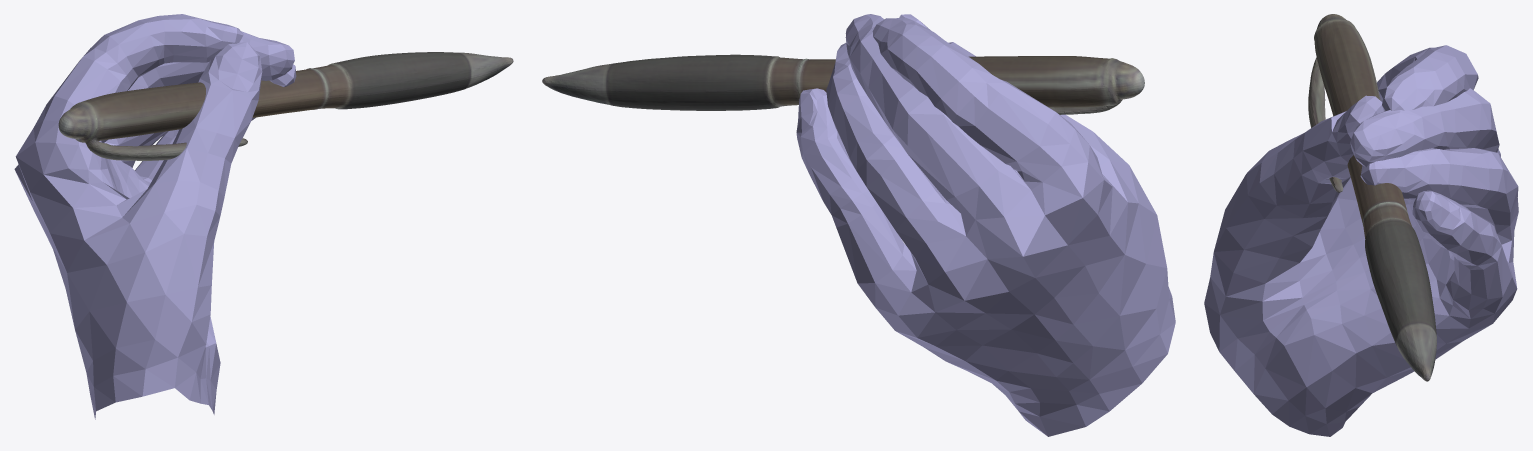
The model's file is frame_0024_source_000024_hand_object.glb.
3 renders of one model, left to right at view 1: azimuth 30°, elevation 25°; view 2: azimuth 150°, elevation 25°; view 3: azimuth 270°, elevation 25°, orthographic. The views are drawn at different scales.
Visible parts, largest first — view 1: world; view 2: world; view 3: world.
Part boxes in pixels (bbox=[...]): world: bbox=[14, 14, 513, 419]; world: bbox=[542, 14, 1175, 436]; world: bbox=[1204, 14, 1518, 436].
Bounding box in the file's own units: 0.1876 × 0.1348 × 0.0946.
